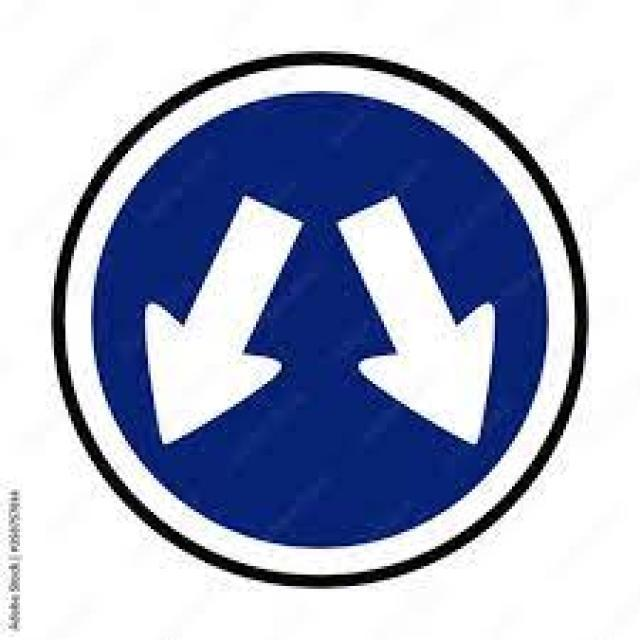pass either side: (48, 51, 586, 590)
